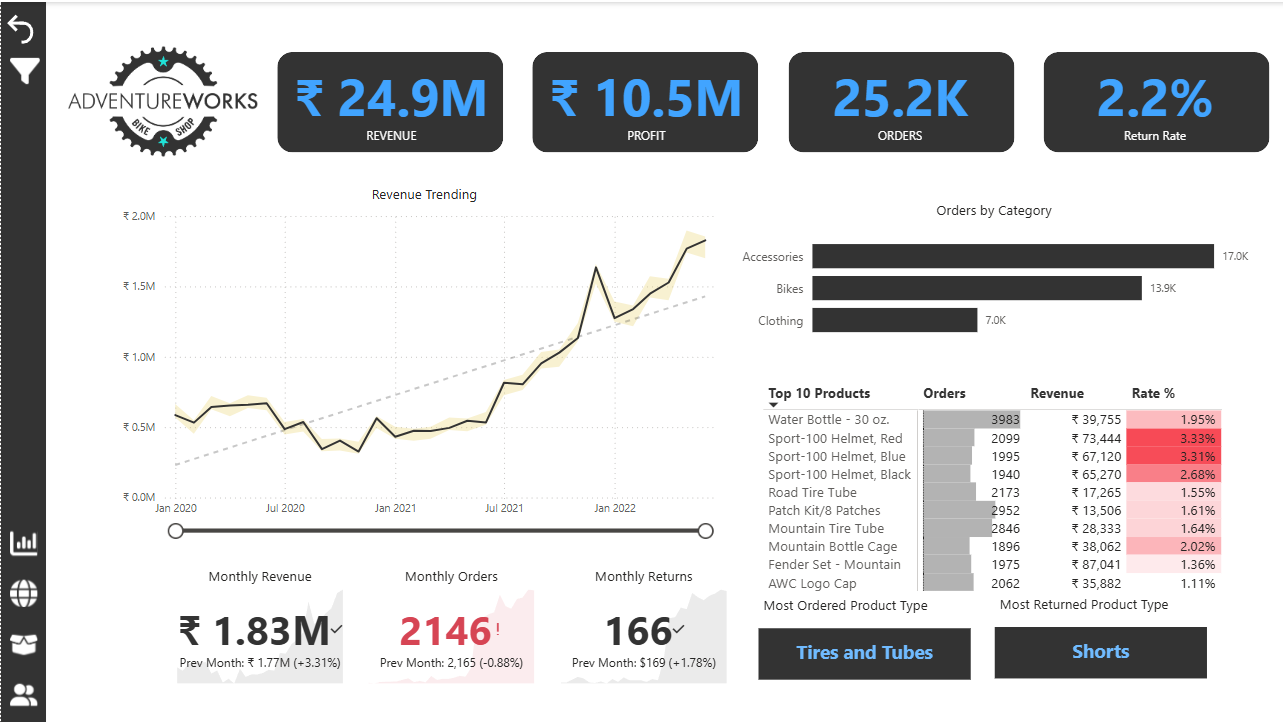

The dashboard page shown, as its layout file describes it:
{"tool":"powerbi","page":{"name":"Exec Dashboard ","canvas":[1280,720],"ordinal":0},"visuals":[{"type":"image","title":"AW logo","box":[45.7,16.8,231,163.6],"z":0},{"type":"card","fields":{"Values":["Measure Table.Total Revenue"]},"box":[275,27.5,227.5,145],"z":0,"group":"g2"},{"type":"group","id":"g1","title":"KPI Bakgrounds","box":[275,50,987.5,100],"z":0,"group":"g3"},{"type":"shape","box":[275,50,225,100],"z":0,"group":"g1"},{"type":"actionButton","box":[4.4,518.9,35.6,40],"z":0,"group":"g4"},{"type":"shape","title":"Left Nav Background","box":[0,0,45,720],"z":1000},{"type":"group","id":"g2","title":"KPI Values","box":[275,27.5,987.5,145],"z":1000,"group":"g3"},{"type":"card","fields":{"Values":["Measure Table.Return Rate"]},"box":[1035,27.5,227.5,145],"z":1000,"group":"g2"},{"type":"shape","box":[783.3,50,225,100],"z":1000,"group":"g1"},{"type":"actionButton","box":[4.4,619.6,35.6,40],"z":1000,"group":"g4"},{"type":"group","id":"g3","title":"KPI","box":[275,27.5,987.5,145],"z":2000},{"type":"card","fields":{"Values":["Measure Table.Total profit"]},"box":[528.3,27.5,227.5,145],"z":2000,"group":"g2"},{"type":"shape","box":[1037.5,50,225,100],"z":2000,"group":"g1"},{"type":"actionButton","box":[4.4,670,35.6,40],"z":2000,"group":"g4"},{"type":"card","fields":{"Values":["Measure Table.Total Orders"]},"box":[781.7,27.5,227.5,145],"z":3000,"group":"g2"},{"type":"shape","box":[529.2,50,225,100],"z":3000,"group":"g1"},{"type":"lineChart","title":"Revenue Trending","fields":{"Category":["Calendar Lookup.Start of Month"],"Y":["Measure Table.Total Revenue"]},"box":[115.7,181.4,611.4,355.7],"z":3000},{"type":"actionButton","box":[4.4,569.3,35.6,40],"z":3000,"group":"g4"},{"type":"kpi","title":"Monthly Revenue","fields":{"Goal":["Measure Table.Previous Month Revenue"],"Indicator":["Measure Table.Total Revenue"],"TrendLine":["Calendar Lookup.Start of Month"]},"box":[170,562.5,175,121.2],"z":4000},{"type":"kpi","title":"Monthly Orders","fields":{"Goal":["Measure Table.previous month orders"],"Indicator":["Measure Table.Total Orders"],"TrendLine":["Calendar Lookup.Start of Month"]},"box":[361.2,562.5,175,121.2],"z":5000},{"type":"kpi","title":"Monthly Returns","fields":{"Goal":["Measure Table.previous month returns"],"Indicator":["Measure Table.Total Returns"],"TrendLine":["Calendar Lookup.Start of Month"]},"box":[552.5,562.5,175,121.2],"z":6000},{"type":"clusteredBarChart","title":"Orders by Category","fields":{"Category":["Product Categories Lookup.CategoryName"],"Y":["Measure Table.Total Orders"]},"box":[727.8,197.8,521.1,150],"z":7000},{"type":"pivotTable","fields":{"Rows":["Product Lookup.ProductName"],"Values":["Measure Table.Total Orders","Measure Table.Total Revenue","Measure Table.Return Rate"]},"box":[754.3,374.3,507.1,227.1],"z":8000},{"type":"card","fields":{"Values":["Min(Product Subcategories Lookup.SubcategoryName)"]},"box":[754.3,622.9,211.4,51.4],"z":9000},{"type":"textbox","box":[754.3,585.7,180,37.1],"z":10000},{"type":"card","fields":{"Values":["Min(Product Subcategories Lookup.SubcategoryName)"]},"box":[988.6,621.4,211.4,51.4],"z":11000},{"type":"textbox","box":[988.6,584.3,180,37.1],"z":12000},{"type":"actionButton","box":[0,7.8,45.6,38.9],"z":13000},{"type":"group","id":"g4","title":"Navigation Buttons","box":[4.4,518.9,35.6,191.1],"z":14000},{"type":"actionButton","box":[4.4,50,45.6,37.8],"z":15000}]}

Visuals, with their boxes on the page's 1280x720 design canvas (x1, y1, x2, y2). These are canvas units, not pixel positions in the 1283x722 screenshot, which may show the page scaled, cropped or inside an application window:
"AW logo" image: 46:17:277:180
card - Measure Table.Total Revenue: 275:28:502:172
"KPI Bakgrounds" group: 275:50:1262:150
shape: 275:50:500:150
actionButton: 4:519:40:559
"Left Nav Background" shape: 0:0:45:720
"KPI Values" group: 275:28:1262:172
card - Measure Table.Return Rate: 1035:28:1262:172
shape: 783:50:1008:150
actionButton: 4:620:40:660
"KPI" group: 275:28:1262:172
card - Measure Table.Total profit: 528:28:756:172
shape: 1038:50:1262:150
actionButton: 4:670:40:710
card - Measure Table.Total Orders: 782:28:1009:172
shape: 529:50:754:150
"Revenue Trending" lineChart: 116:181:727:537
actionButton: 4:569:40:609
"Monthly Revenue" kpi: 170:562:345:684
"Monthly Orders" kpi: 361:562:536:684
"Monthly Returns" kpi: 552:562:728:684
"Orders by Category" clusteredBarChart: 728:198:1249:348
pivotTable - Product Lookup.ProductName x Measure Table.Total Orders: 754:374:1261:601
card - Min(Product Subcategories Lookup.SubcategoryName): 754:623:966:674
textbox: 754:586:934:623
card - Min(Product Subcategories Lookup.SubcategoryName): 989:621:1200:673
textbox: 989:584:1169:621
actionButton: 0:8:46:47
"Navigation Buttons" group: 4:519:40:710
actionButton: 4:50:50:88
